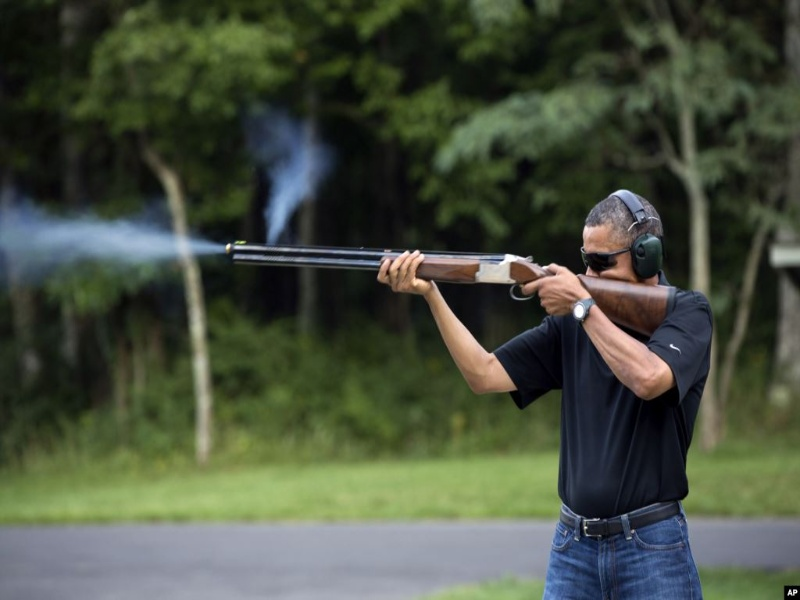person: (376, 188, 712, 600)
weapon: (225, 240, 676, 335)
